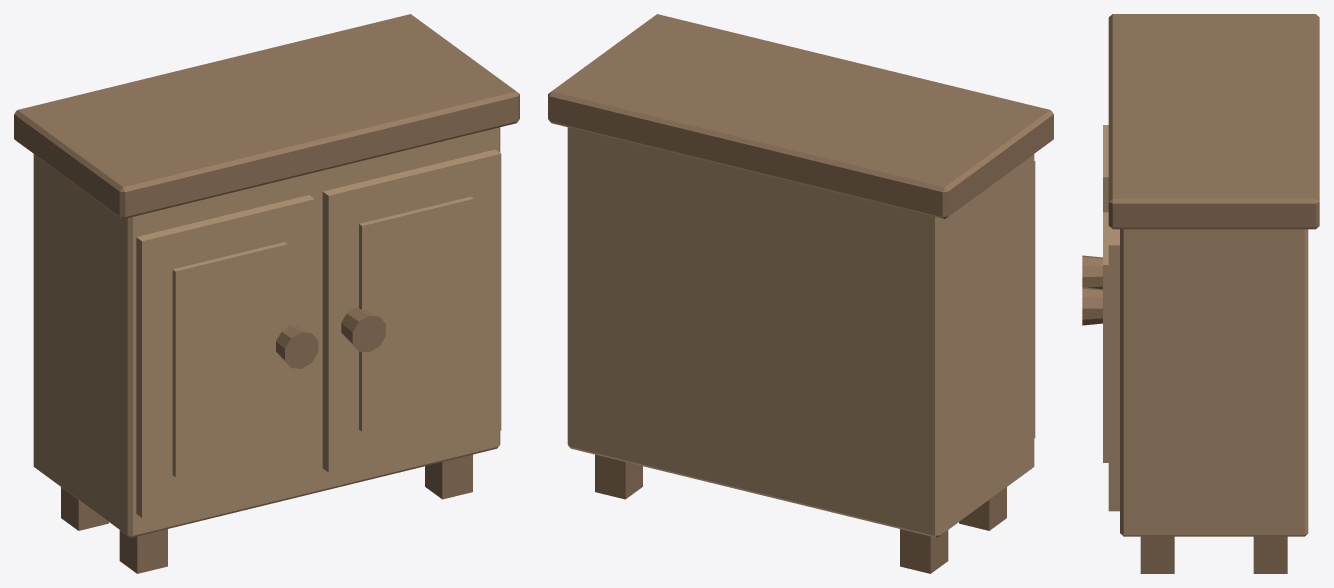
File: Cabinet.fbx
3 renders of one model, left to right at view 1: azimuth 30°, elevation 25°; view 2: azimuth 150°, elevation 25°; view 3: azimuth 270°, elevation 25°, orthographic. The views are drawn at different scales.
Visible parts, largest first — view 1: Cab_Body; view 2: Cab_Body; view 3: Cab_Body.
Part boxes in pixels (left/top/right/bottom): Cab_Body: left=14, top=14, right=519, bottom=573; Cab_Body: left=548, top=14, right=1053, bottom=573; Cab_Body: left=1082, top=14, right=1319, bottom=573.
Size of the model in its own units: 161 by 155 by 85.76.
